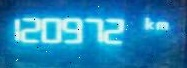0: (40, 16, 61, 42)
1: (10, 15, 19, 44)
2: (104, 17, 125, 46), (20, 15, 39, 42)
7: (82, 16, 103, 41)
9: (61, 17, 82, 43)
X: (144, 15, 153, 29), (156, 19, 167, 29)
